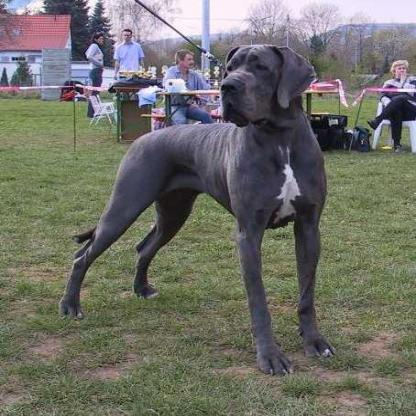Great_Dane: (55, 42, 337, 374)
